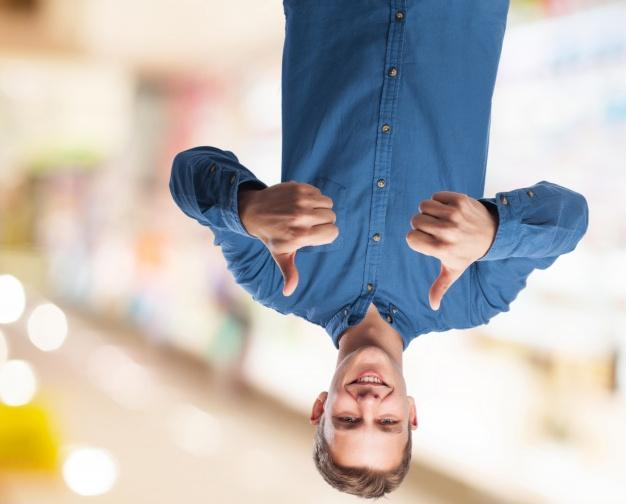thumbsdown: (406, 192, 470, 310), (278, 181, 339, 297)
